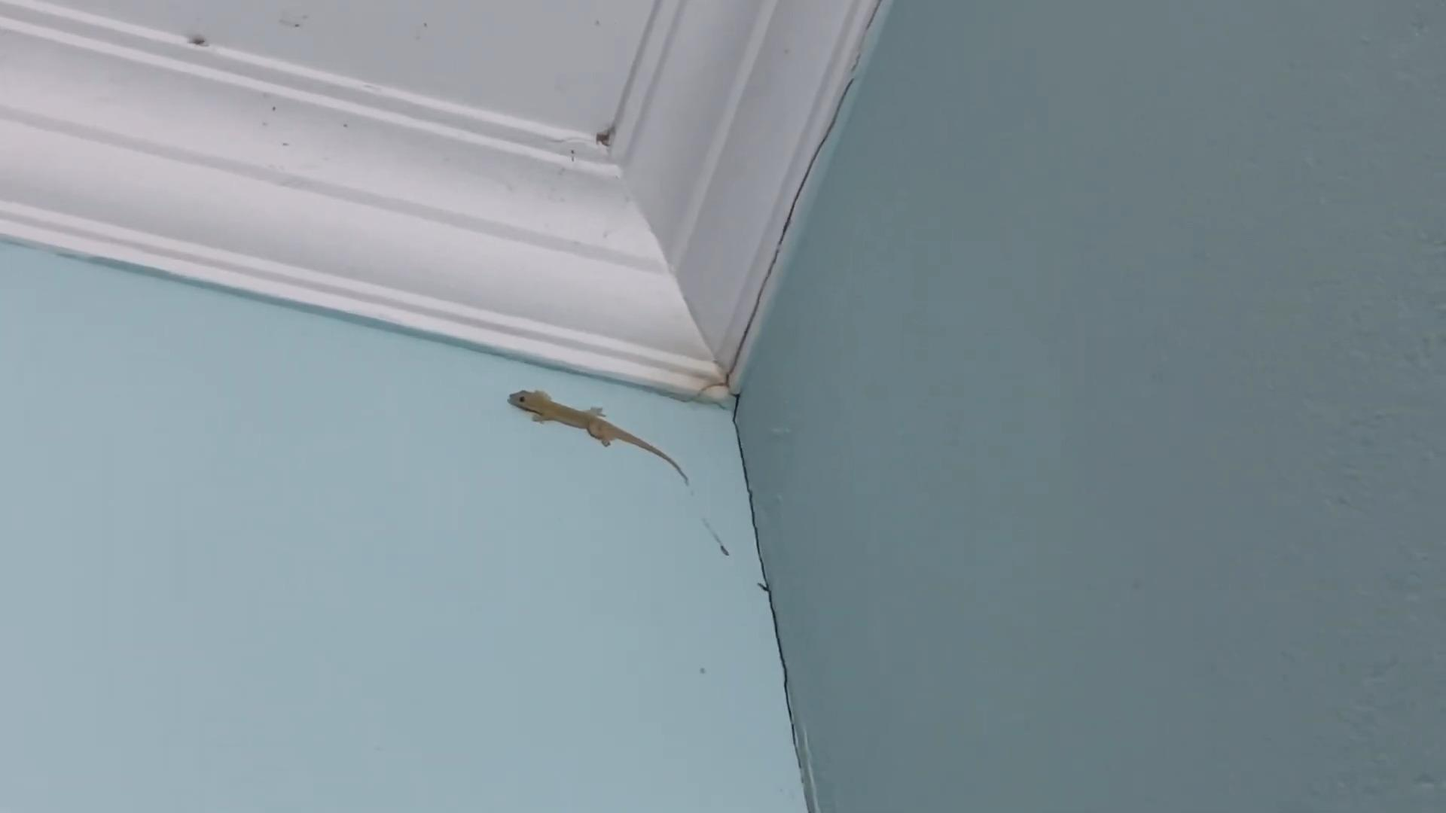lizard: (494, 382, 668, 480)
